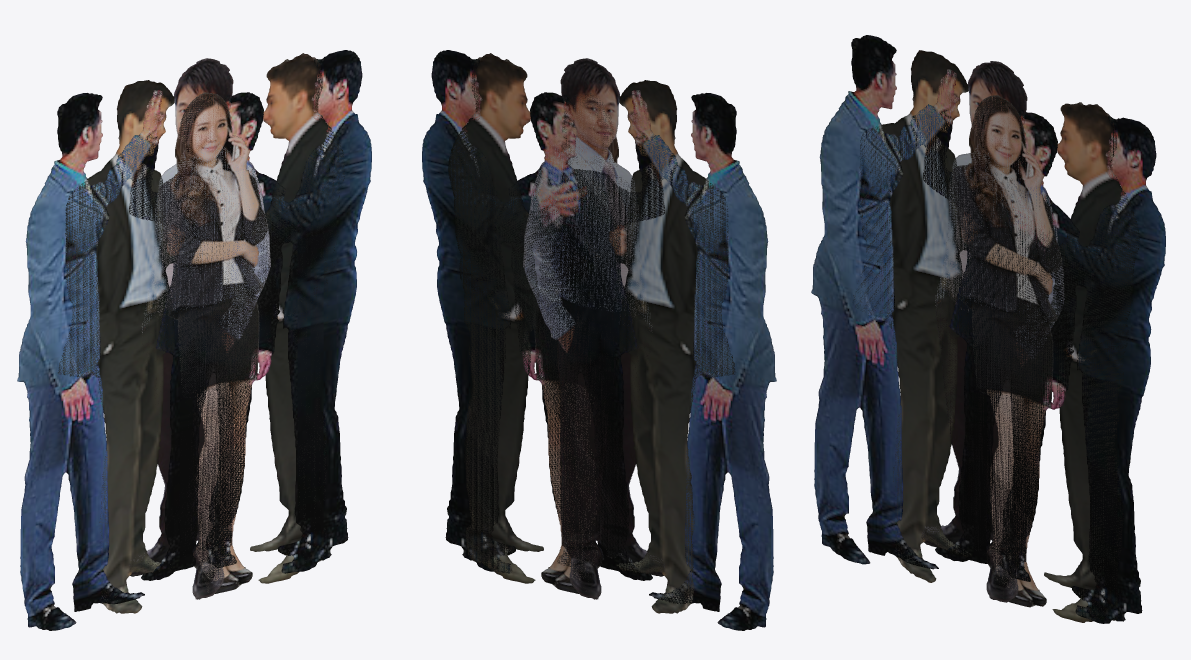
Rendered from 3DGJ_RW_zxx.FBX.
The picture shows the model from 3 angles, left to right: view 1: azimuth 30°, elevation 25°; view 2: azimuth 150°, elevation 25°; view 3: azimuth 330°, elevation 25°; orthographic projection.
Parts seen in each view (by area): view 1: 3DGJ_RW_zxx1, 3DGJ_RW_zxx004, 3DGJ_RW_zxx2, 3DGJ_RW_zxx3; view 2: 3DGJ_RW_zxx1, 3DGJ_RW_zxx004, 3DGJ_RW_zxx3, 3DGJ_RW_zxx2; view 3: 3DGJ_RW_zxx1, 3DGJ_RW_zxx004, 3DGJ_RW_zxx2, 3DGJ_RW_zxx3.
Part boxes in pixels (x1,y1,x2,y2): 3DGJ_RW_zxx1: (17,50,371,630); 3DGJ_RW_zxx004: (58,53,344,613); 3DGJ_RW_zxx2: (158,92,267,593); 3DGJ_RW_zxx3: (130,58,270,599); 3DGJ_RW_zxx1: (422,50,776,630); 3DGJ_RW_zxx004: (448,53,735,613); 3DGJ_RW_zxx3: (523,58,664,599); 3DGJ_RW_zxx2: (526,93,633,593); 3DGJ_RW_zxx1: (811,35,1165,623); 3DGJ_RW_zxx004: (853,50,1139,622); 3DGJ_RW_zxx2: (952,95,1061,607); 3DGJ_RW_zxx3: (921,61,1064,602).
Bounding box in the file's own units: 1.28 × 1.8 × 2.96e-07.
